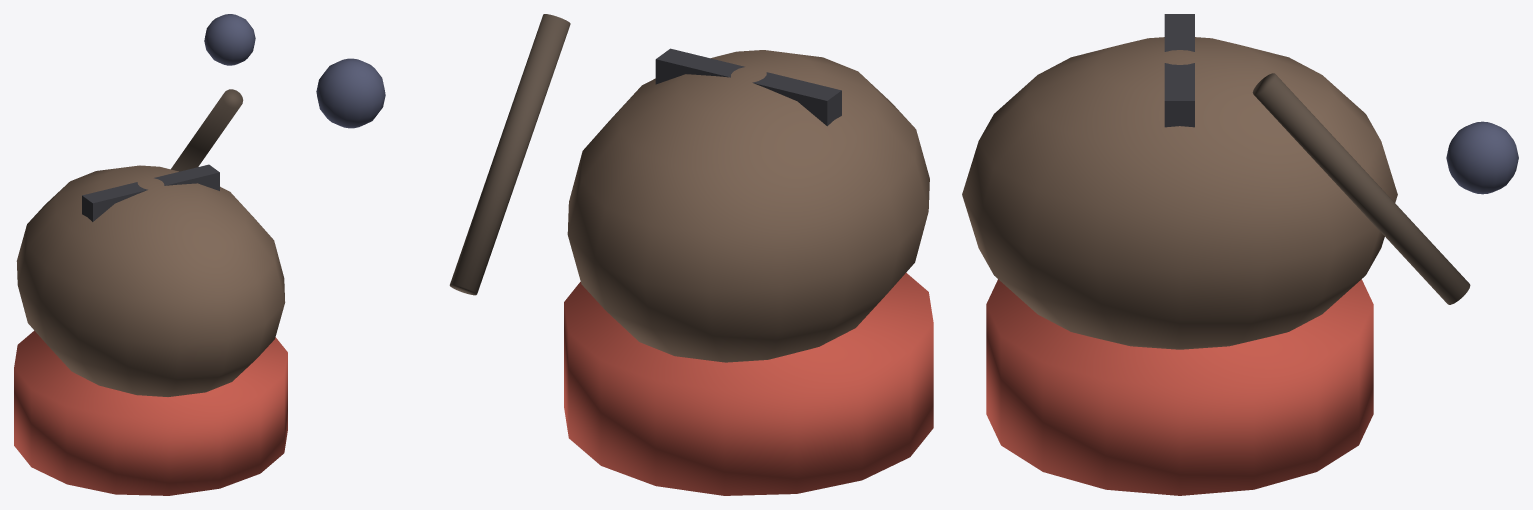
File: prop_mokugyo.glb
3 views of the same model, side by side, from view 1: azimuth 30°, elevation 25°; view 2: azimuth 150°, elevation 25°; view 3: azimuth 270°, elevation 25° (orthographic). The views are drawn at different scales.
Visible parts, largest first — view 1: mokugyo; view 2: mokugyo; view 3: mokugyo.
Part boxes in pixels (<box>): mokugyo: <box>14,14,287,495</box>; mokugyo: <box>316,14,933,495</box>; mokugyo: <box>962,14,1518,495</box>.
Bounding box in the file's own units: 0.88 × 0.76 × 0.92.
